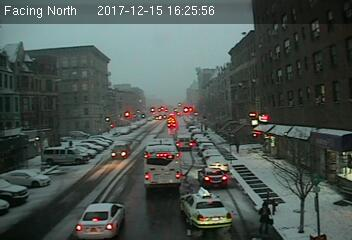bus: (142, 136, 182, 193)
car: (178, 189, 233, 229), (74, 202, 126, 240), (197, 168, 228, 188), (205, 156, 230, 171), (110, 142, 132, 159)
pedestrian: (260, 200, 271, 233)
truck: (177, 134, 193, 149)
